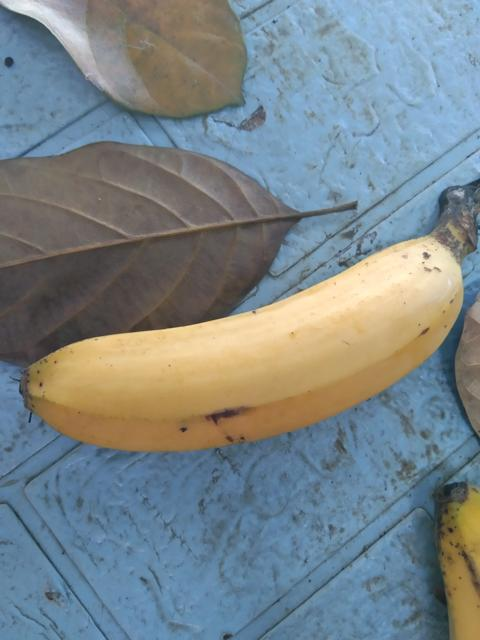freshripe: (24, 236, 473, 477)
